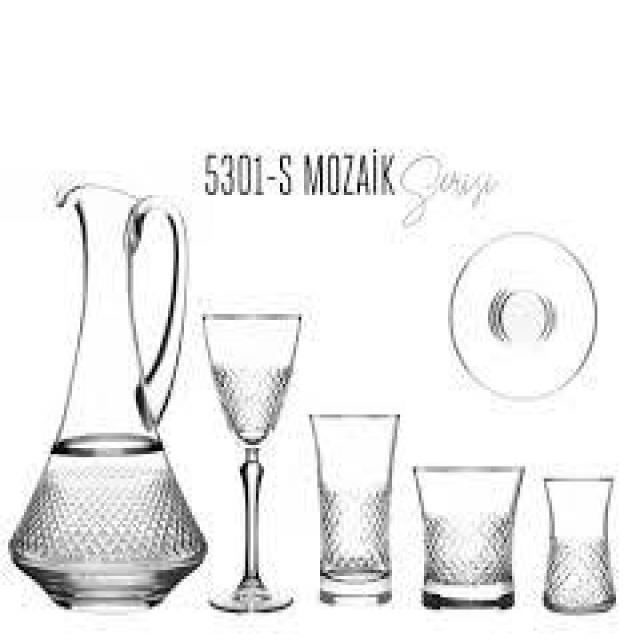glass: (7, 180, 210, 612), (198, 310, 302, 616), (449, 232, 602, 402), (303, 410, 402, 608), (411, 462, 528, 614), (538, 474, 618, 617)
